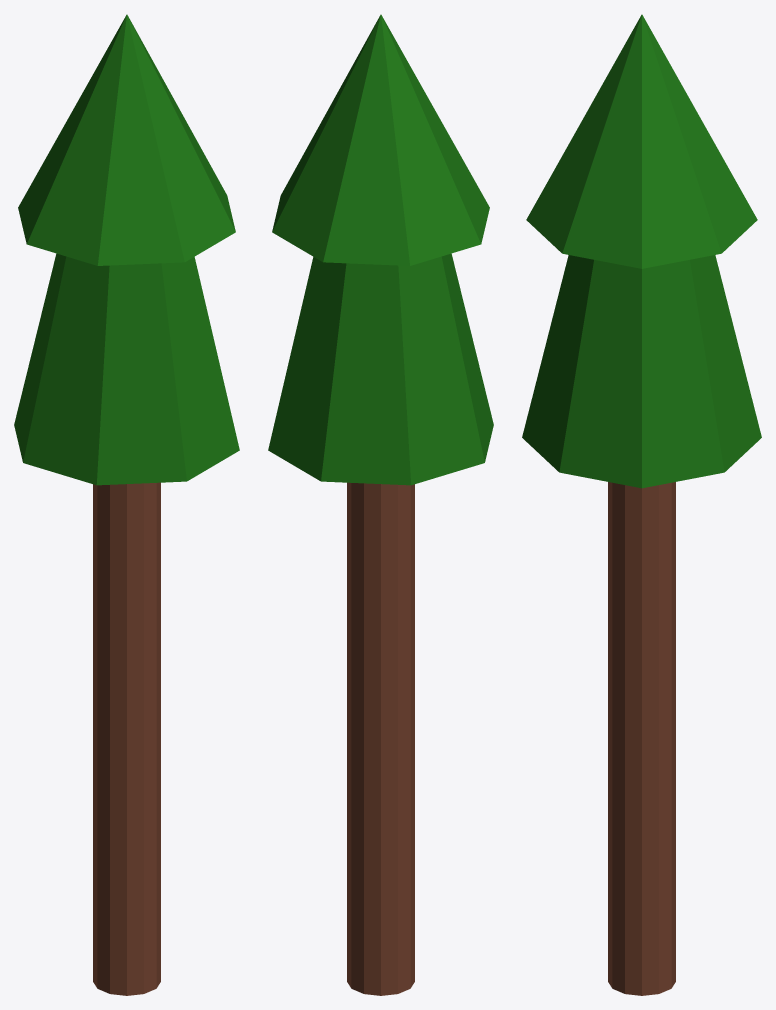
Rendered from Tree_21_summer_vc.fbx.
3 views of the same model, side by side, from view 1: azimuth 30°, elevation 25°; view 2: azimuth 150°, elevation 25°; view 3: azimuth 270°, elevation 25° (orthographic).
Parts seen in each view (by area): view 1: Tree_21_summer_vc; view 2: Tree_21_summer_vc; view 3: Tree_21_summer_vc.
Part boxes in pixels (box(x1,y1,x2,y2)): Tree_21_summer_vc: box(14, 14, 239, 995); Tree_21_summer_vc: box(268, 14, 493, 995); Tree_21_summer_vc: box(522, 14, 761, 995).
Size of the model in its own units: 2.03 by 9.01 by 2.03.
